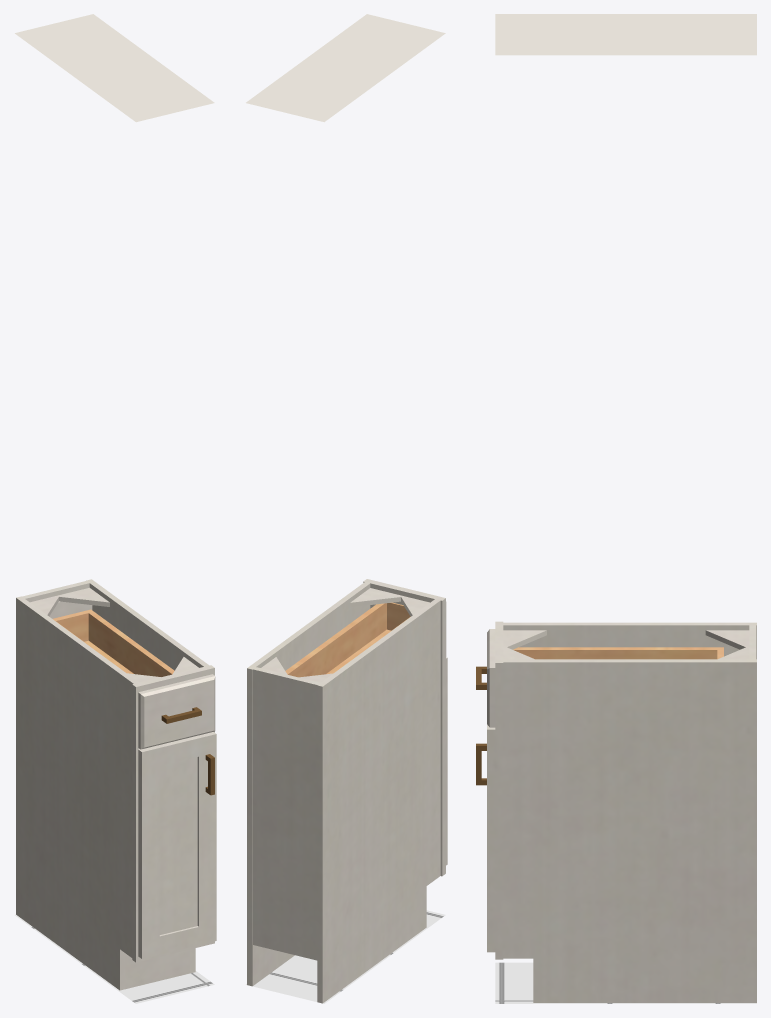
3 renders of one model, left to right at view 1: azimuth 30°, elevation 25°; view 2: azimuth 150°, elevation 25°; view 3: azimuth 270°, elevation 25°, orthographic. The views are drawn at different scales.
Parts seen in each view (by area): view 1: B09L (×15), Ceiling, Floor; view 2: B09L (×8), Ceiling, Floor; view 3: B09L (×6), Ceiling, Floor.
Boxes of the visible parts, x1,y1,x2,y2 form: B09L (×15): (16, 579, 216, 990); Ceiling: (15, 14, 214, 122); Floor: (15, 914, 214, 1003); B09L (×8): (247, 582, 445, 1003); Ceiling: (246, 14, 445, 122); Floor: (246, 910, 445, 1003); B09L (×6): (487, 622, 756, 1002); Ceiling: (495, 14, 756, 55); Floor: (495, 962, 756, 1003).
Size of the model in its own units: 9 by 25.75 by 96.
7 materials, 5 textured.
